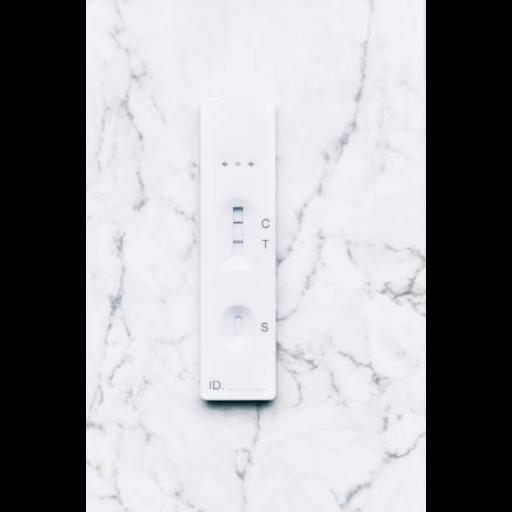Pos: (198, 88, 274, 396)
